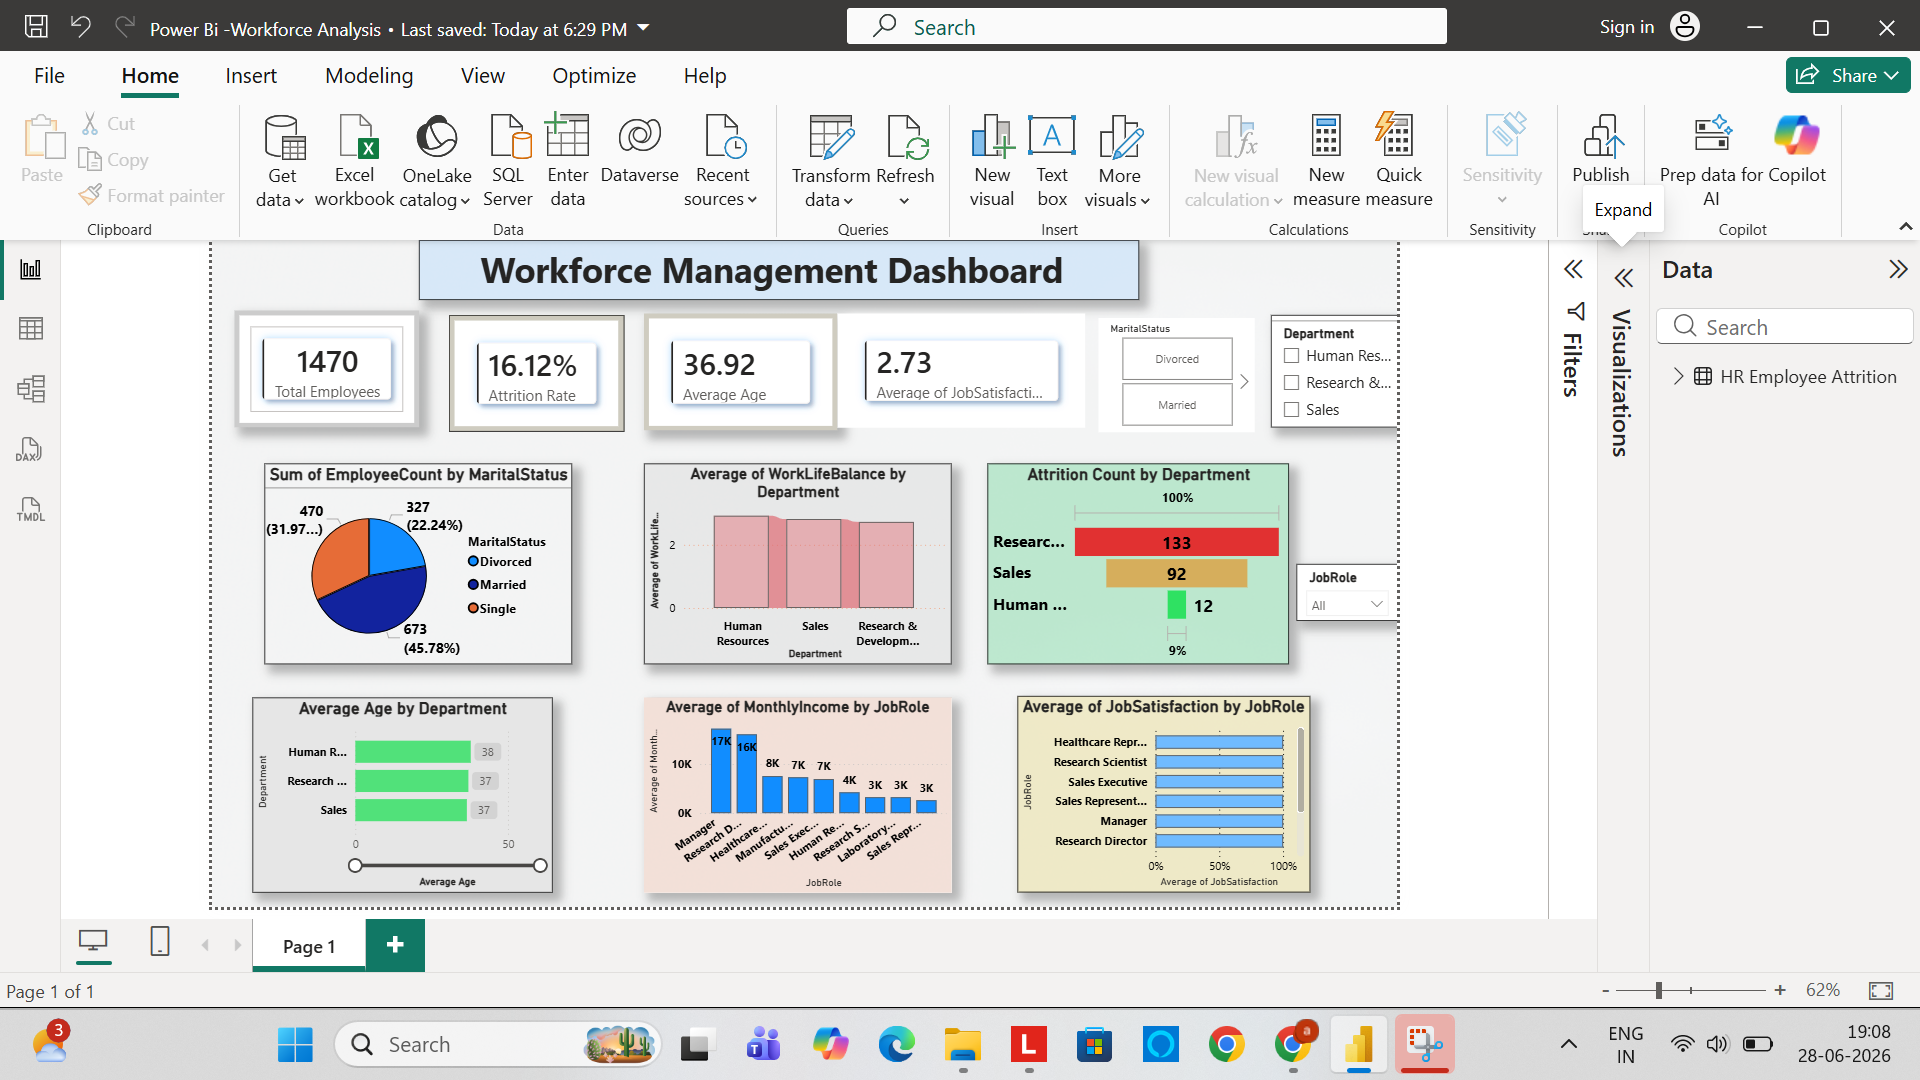

What the dashboard file says about the page in this screenshot:
{"tool":"powerbi","page":{"name":"Page 1","canvas":[1280,720],"ordinal":0},"visuals":[{"type":"pieChart","fields":{"Y":["Sum(HR Employee Attrition.EmployeeCount)"],"Series":["HR Employee Attrition.MaritalStatus"]},"box":[56.7,241.3,331.9,217],"z":0},{"type":"columnChart","fields":{"Category":["HR Employee Attrition.JobRole"],"Y":["Avg(HR Employee Attrition.MonthlyIncome)"]},"box":[466.3,493.9,331.9,210.5],"z":1000},{"type":"funnel","fields":{"Category":["HR Employee Attrition.Department"],"Y":["HR Employee Attrition.Attrition Count"]},"box":[837.1,241.3,325.5,217],"z":2000},{"type":"hundredPercentStackedBarChart","fields":{"Category":["HR Employee Attrition.JobRole"],"Y":["Avg(HR Employee Attrition.JobSatisfaction)"]},"box":[869.5,492.2,315.7,212.1],"z":3000},{"type":"columnChart","fields":{"Category":["HR Employee Attrition.Department"],"Y":["Avg(HR Employee Attrition.WorkLifeBalance)"]},"box":[466.3,241.3,331.9,217],"z":4000},{"type":"cardVisual","fields":{"Data":["HR Employee Attrition.Attrition Rate"]},"box":[255.8,81,189.4,126.3],"z":5000},{"type":"textbox","box":[223.5,0,777.2,64.8],"z":6000},{"type":"cardVisual","fields":{"Data":["HR Employee Attrition.Total Employees"]},"box":[24.3,76.1,199.2,126.3],"z":7000},{"type":"cardVisual","fields":{"Data":["HR Employee Attrition.Average Age"]},"box":[466.3,79.3,208.9,126.3],"z":8000},{"type":"cardVisual","fields":{"Data":["Avg(HR Employee Attrition.JobSatisfaction)"]},"box":[675.2,79.3,267.2,123.1],"z":9000},{"type":"barChart","fields":{"Category":["HR Employee Attrition.Department"],"Y":["HR Employee Attrition.Average Age"]},"box":[43.7,493.9,323.8,210.5],"z":10000},{"type":"slicer","fields":{"Values":["HR Employee Attrition.Department"]},"box":[1143.2,81,137.6,121.4],"z":11000},{"type":"slicer","fields":{"Values":["HR Employee Attrition.JobRole"]},"box":[1170.7,349.8,110.1,61.5],"z":12000},{"type":"slicer","fields":{"Values":["HR Employee Attrition.MaritalStatus"]},"box":[957,84.2,168.4,123.1],"z":13000}]}

Visuals, with their boxes on the page's 1280x720 design canvas (x1, y1, x2, y2). These are canvas units, not pixel positions in the 1920x1080 screenshot, which may show the page scaled, cropped or inside an application window:
pieChart - Sum(HR Employee Attrition.EmployeeCount) x HR Employee Attrition.MaritalStatus: box=[57, 241, 389, 458]
columnChart - HR Employee Attrition.JobRole x Avg(HR Employee Attrition.MonthlyIncome): box=[466, 494, 798, 704]
funnel - HR Employee Attrition.Department x HR Employee Attrition.Attrition Count: box=[837, 241, 1163, 458]
hundredPercentStackedBarChart - HR Employee Attrition.JobRole x Avg(HR Employee Attrition.JobSatisfaction): box=[870, 492, 1185, 704]
columnChart - HR Employee Attrition.Department x Avg(HR Employee Attrition.WorkLifeBalance): box=[466, 241, 798, 458]
cardVisual - HR Employee Attrition.Attrition Rate: box=[256, 81, 445, 207]
textbox: box=[224, 0, 1001, 65]
cardVisual - HR Employee Attrition.Total Employees: box=[24, 76, 224, 202]
cardVisual - HR Employee Attrition.Average Age: box=[466, 79, 675, 206]
cardVisual - Avg(HR Employee Attrition.JobSatisfaction): box=[675, 79, 942, 202]
barChart - HR Employee Attrition.Department x HR Employee Attrition.Average Age: box=[44, 494, 368, 704]
slicer - HR Employee Attrition.Department: box=[1143, 81, 1281, 202]
slicer - HR Employee Attrition.JobRole: box=[1171, 350, 1281, 411]
slicer - HR Employee Attrition.MaritalStatus: box=[957, 84, 1125, 207]
